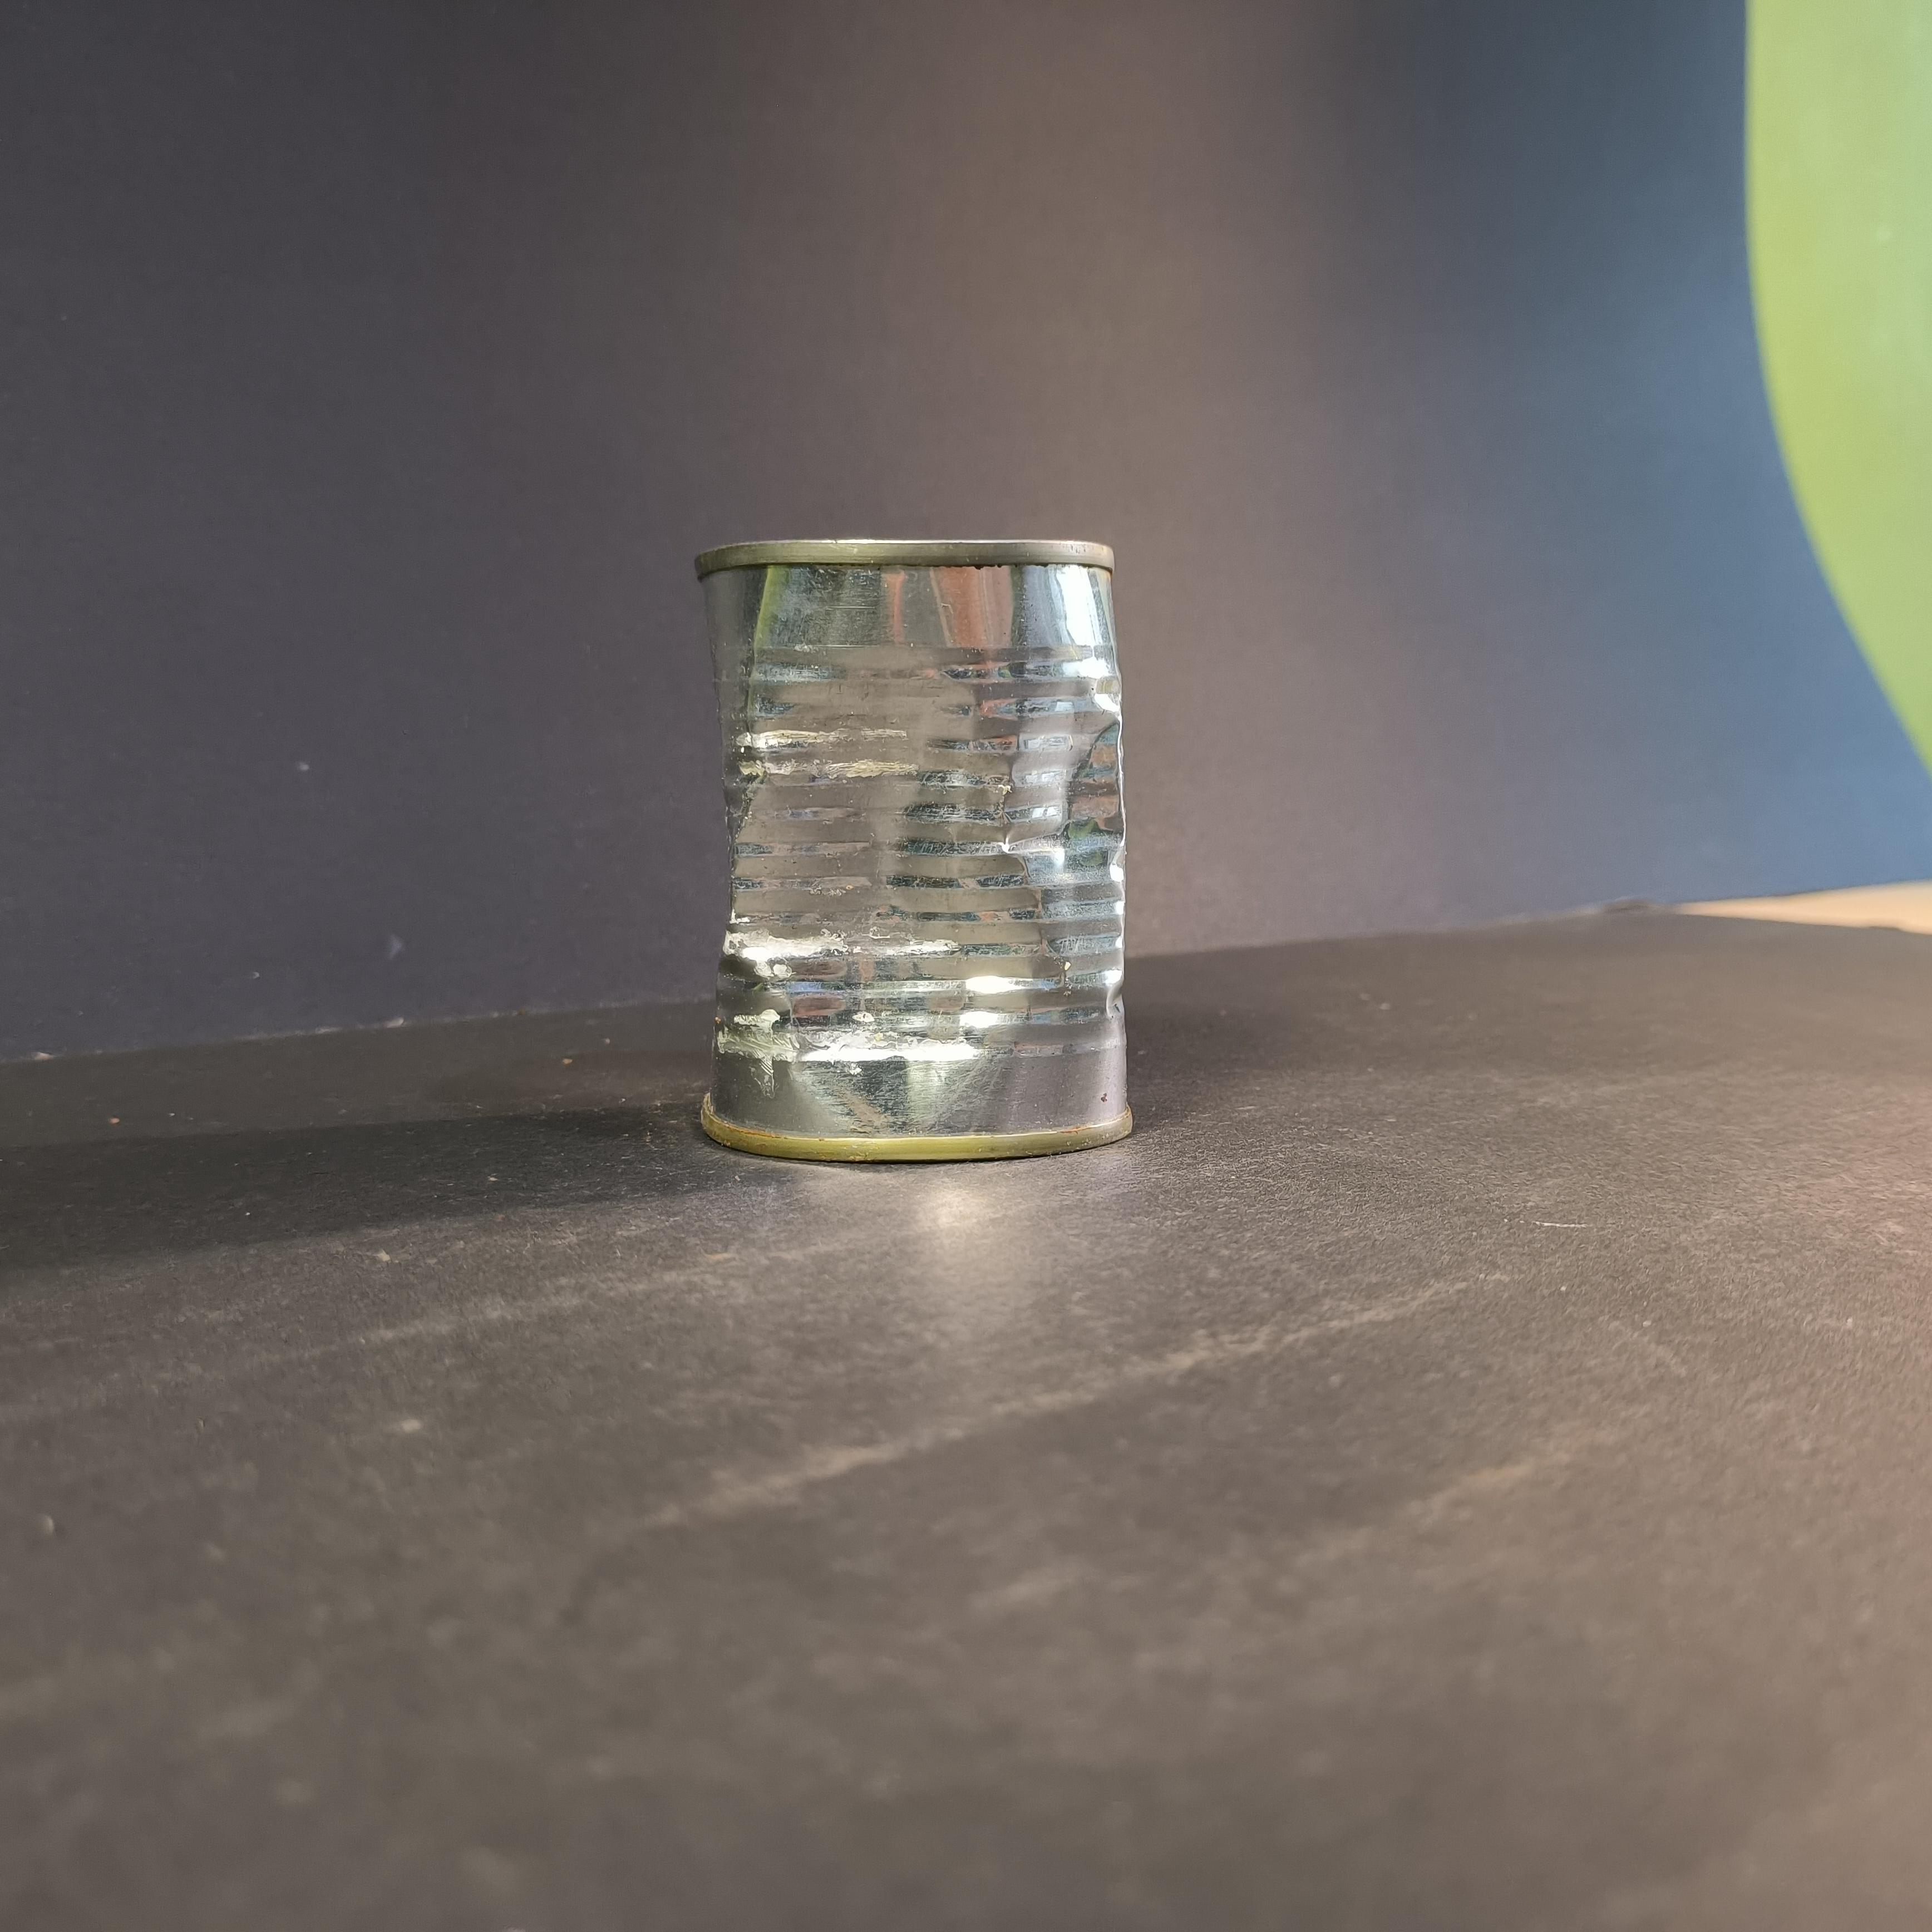Dented: (651, 515, 1180, 1175)
